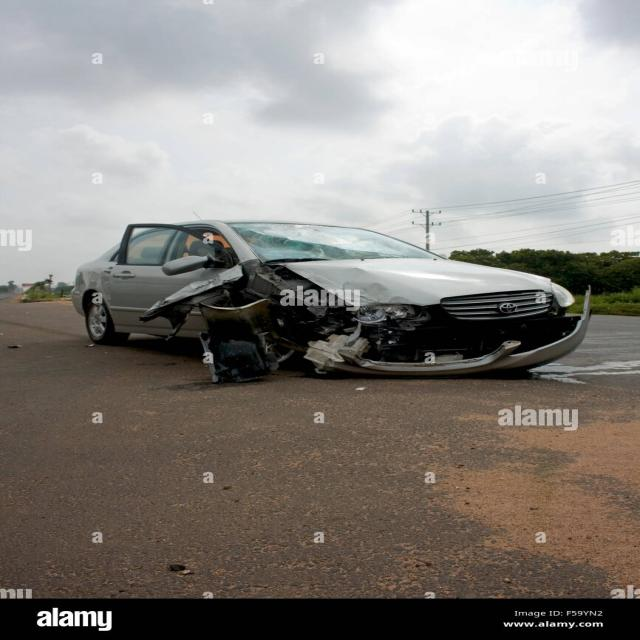Accident: (74, 214, 554, 394)
